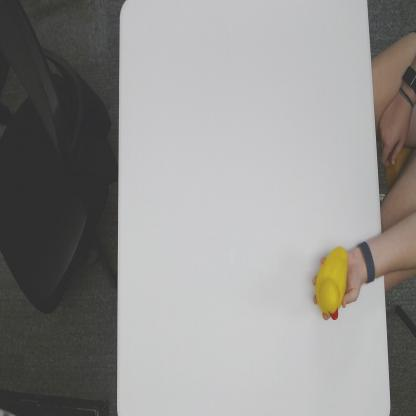Duck: (314, 241, 350, 323)
Hand: (310, 247, 361, 322)
